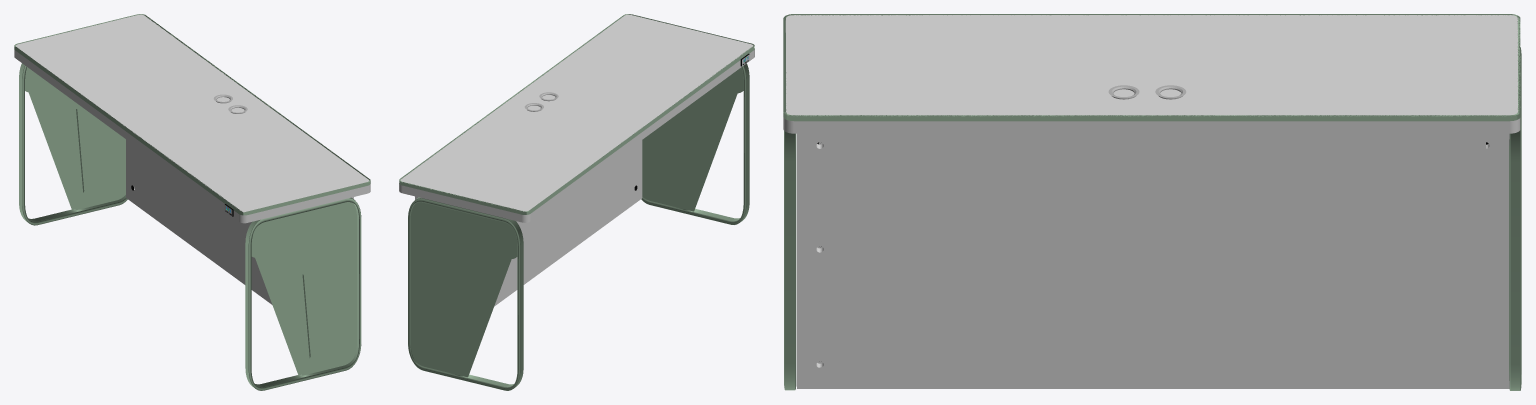
The model's file is desk_col.fbx.
3 views of the same model, side by side, from view 1: azimuth 30°, elevation 25°; view 2: azimuth 150°, elevation 25°; view 3: azimuth 270°, elevation 25° (orthographic). The views are drawn at different scales.
Parts seen in each view (by area): view 1: Cube; view 2: Cube; view 3: Cube.
Boxes of the visible parts, box(x1,y1,x2,y2) form: Cube: box(14, 14, 370, 390); Cube: box(399, 14, 754, 390); Cube: box(783, 14, 1521, 390).
Bounding box in the file's own units: 3459 × 4619 × 10447.
